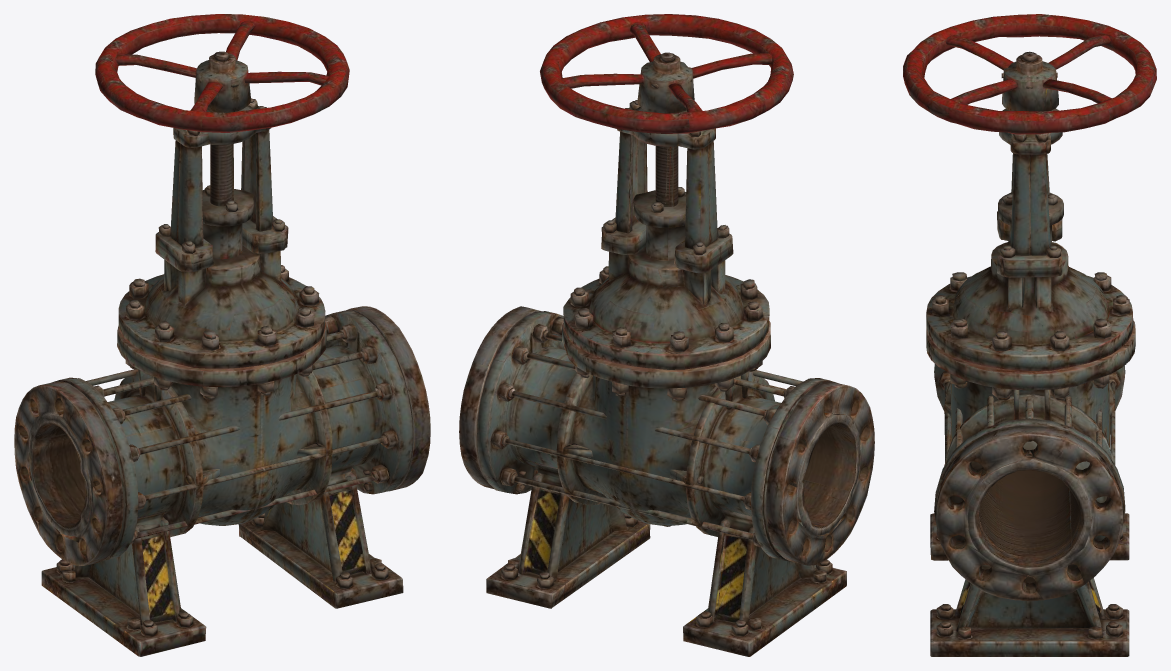
The model's file is reactor-coolant-valve.glb.
3 views of the same model, side by side, from view 1: azimuth 30°, elevation 25°; view 2: azimuth 150°, elevation 25°; view 3: azimuth 270°, elevation 25° (orthographic).
Parts seen in each view (by area): view 1: reactor-coolant-valve; view 2: reactor-coolant-valve; view 3: reactor-coolant-valve.
Part boxes in pixels (left/top/right/bottom): reactor-coolant-valve: left=14, top=14, right=430, bottom=656; reactor-coolant-valve: left=459, top=14, right=874, bottom=656; reactor-coolant-valve: left=903, top=14, right=1156, bottom=656.
Bounding box in the file's own units: 1.29 × 2 × 0.8564.
Materials: 1 (1 with a texture image).
